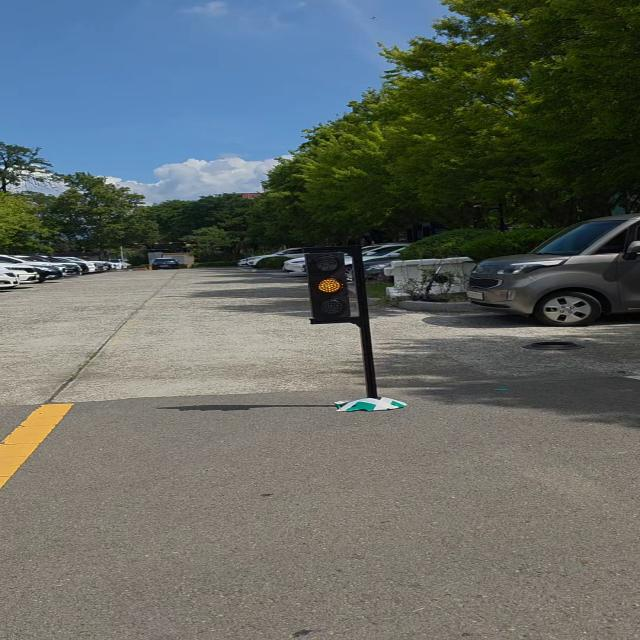yellow: (304, 252, 352, 324)
